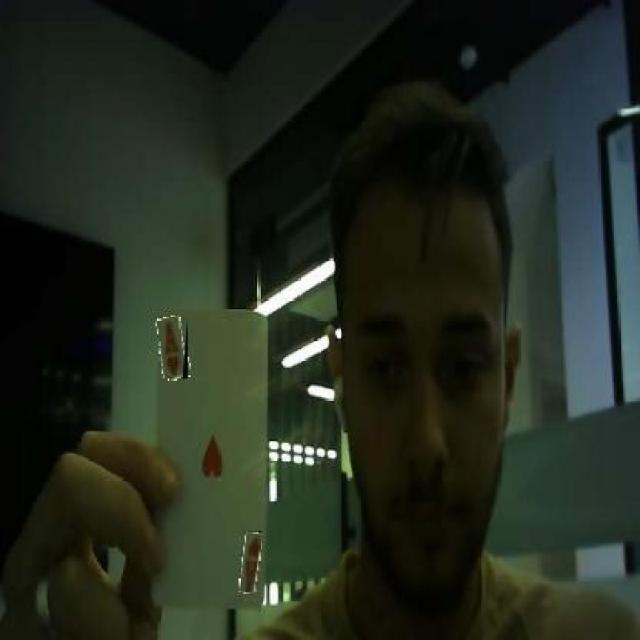AH: (158, 317, 188, 378), (240, 531, 262, 594)
